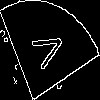V: (24, 25, 67, 76)
